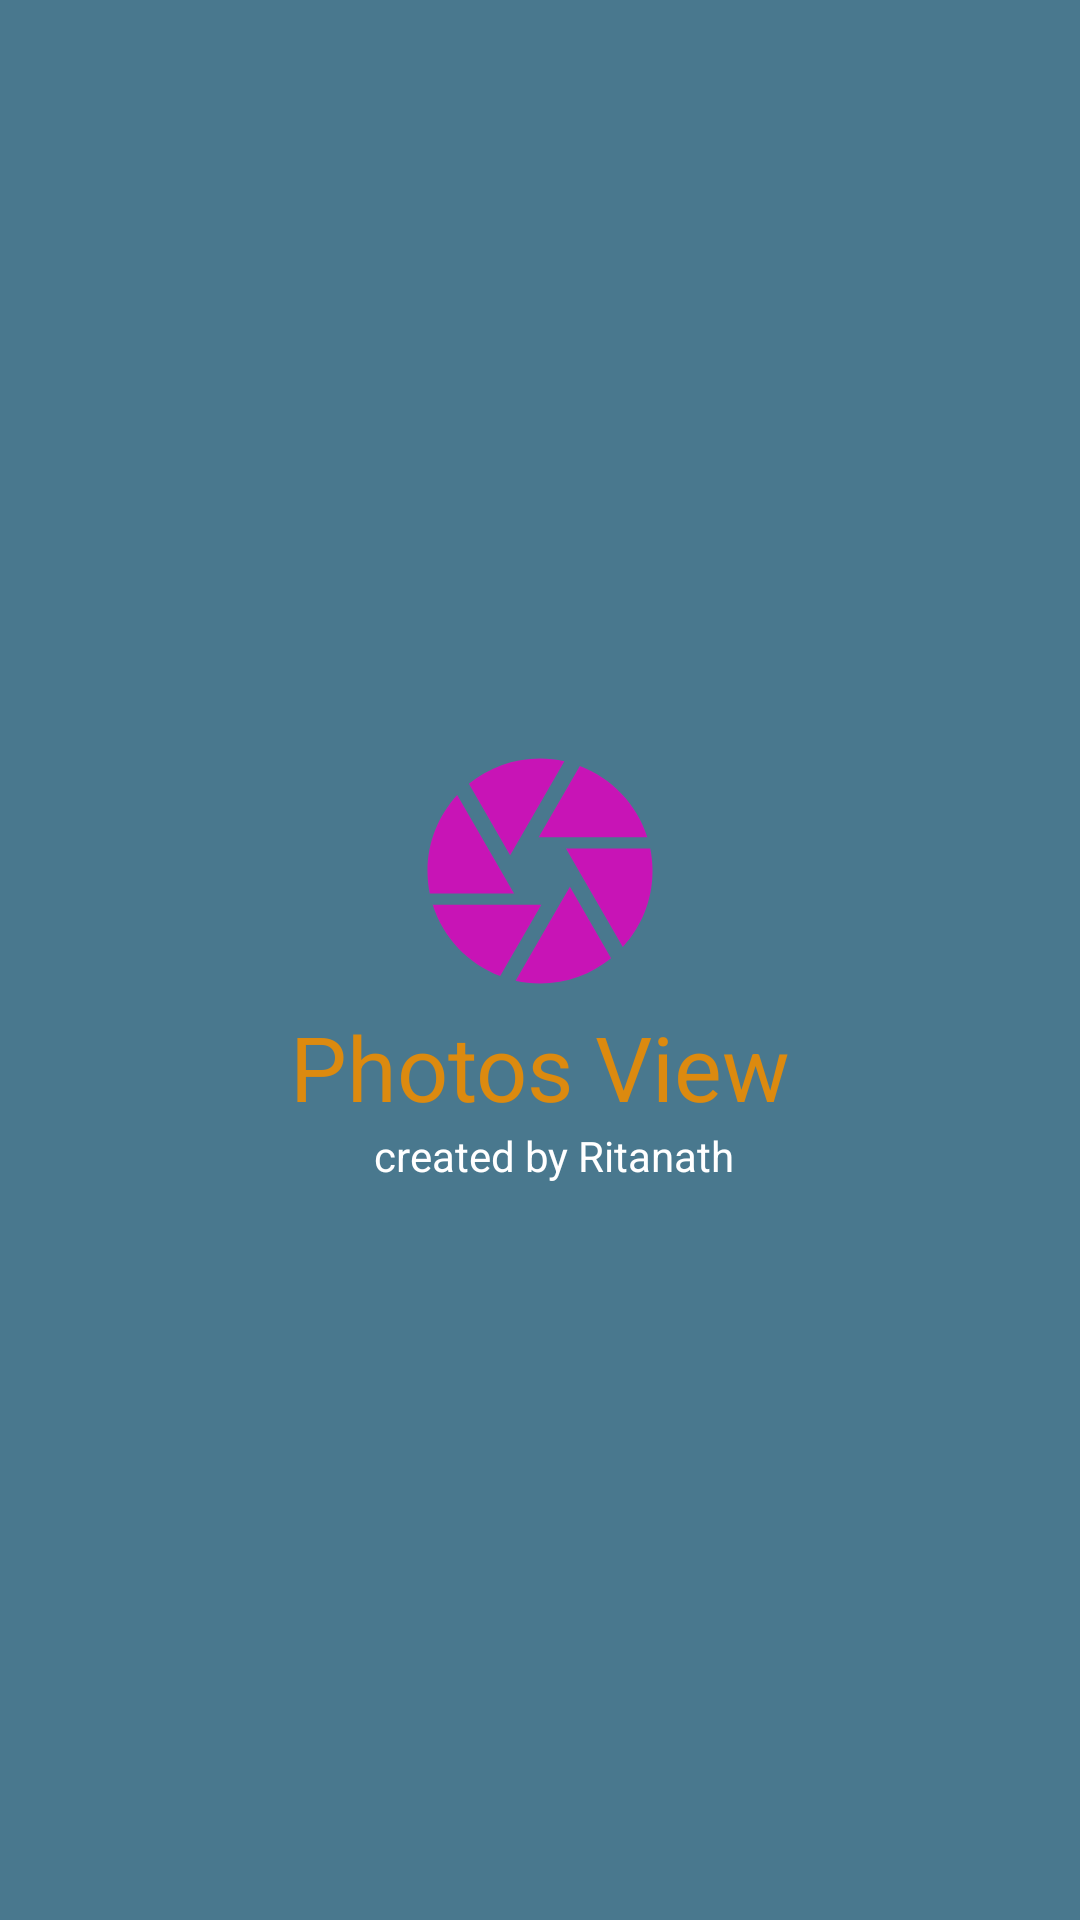

Screen size 1080w x 1920h. Icon name, then its box in pixels as (x1, y1, x2, y2):
camera: (427, 758, 653, 984)
